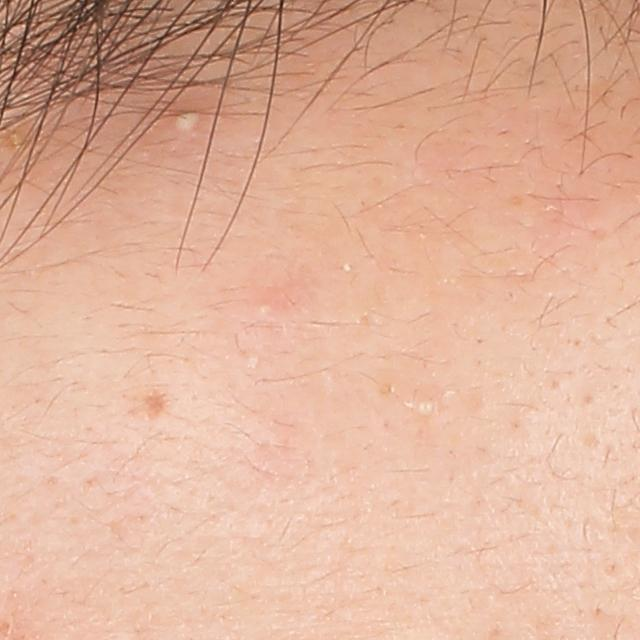pustule: (168, 104, 203, 133)
